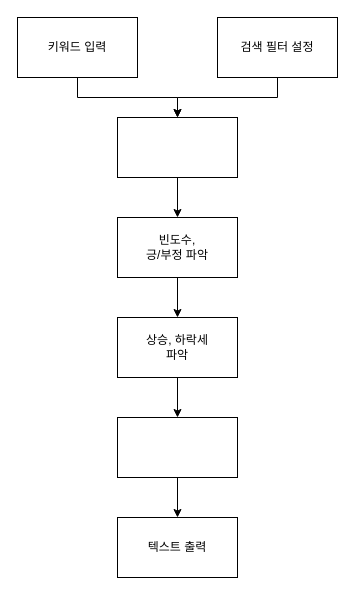
Image size: 355x595. Some labels were removed from this diagram. The shapes that lost their labels are listed below. From the top down, each one's centre as x and y in pixels, then its label:
At pixel 177 147: "웹 크롤링".
At pixel 177 447: "LLM이 전체 자료를 요약".
